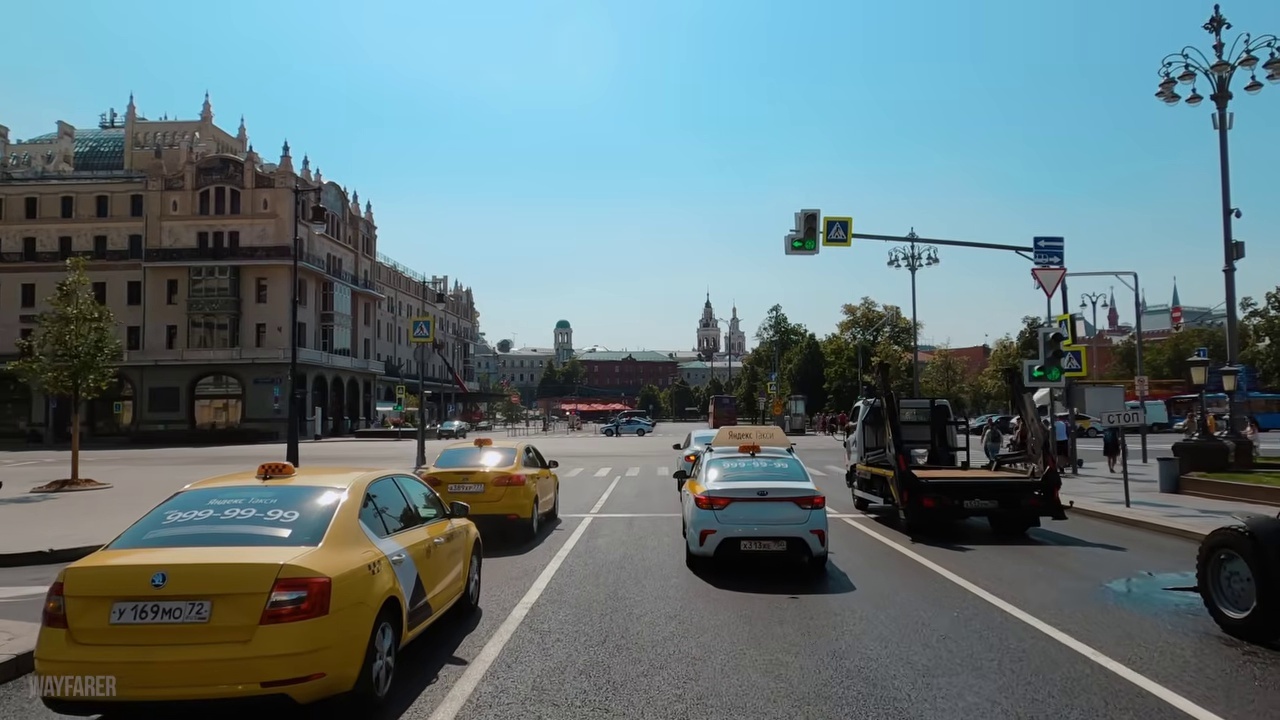apagada: (1152, 71, 1200, 110)
